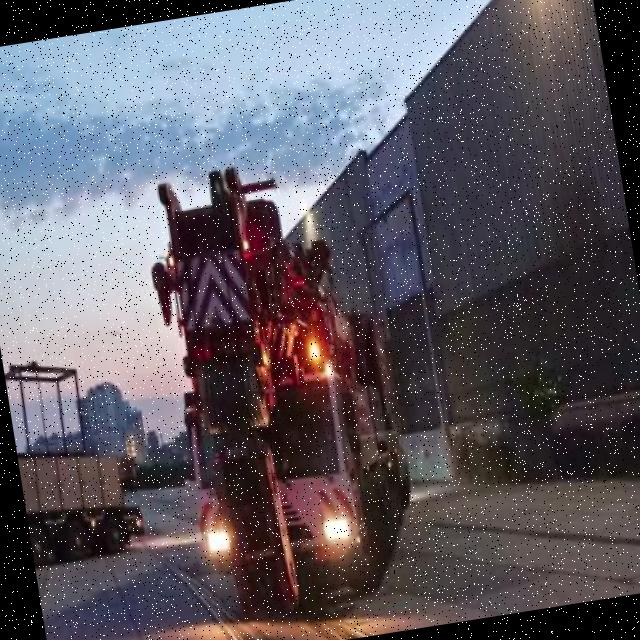Mobile Crane: (138, 147, 420, 616)
